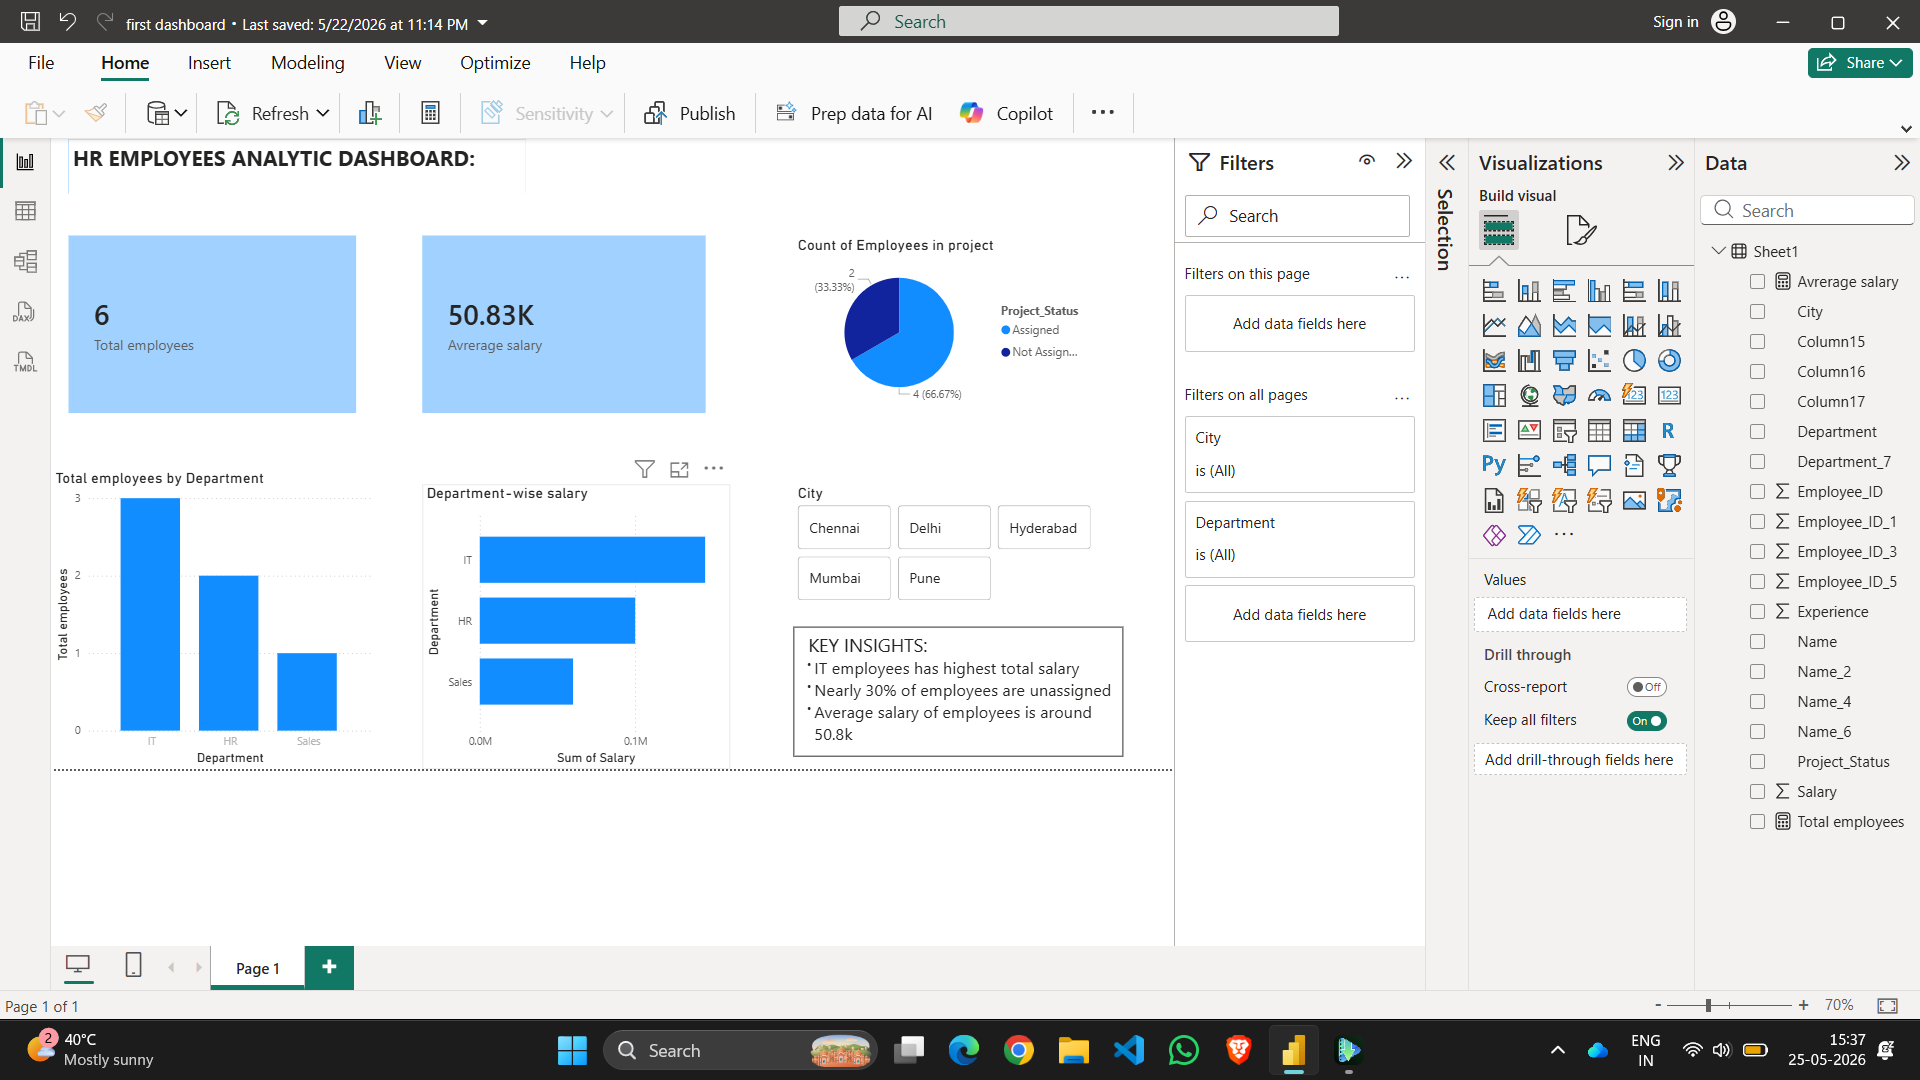

Layout of this report page (visuals, bound fields, positions):
{"tool":"powerbi","page":{"name":"Page 1","canvas":[1280,720],"ordinal":0},"visuals":[{"type":"cardVisual","fields":{"Data":["Sheet1.Total employees"]},"box":[20,111.2,327.8,202.4],"z":0},{"type":"cardVisual","fields":{"Data":["Sheet1.Avrerage salary"]},"box":[423.3,111.2,323.6,202.4],"z":1000},{"type":"columnChart","fields":{"Category":["Sheet1.Department"],"Y":["Sheet1.Total employees"]},"box":[0,377.7,370.6,342.1],"z":2000},{"type":"barChart","title":"Department-wise salary","fields":{"Category":["Sheet1.Department"],"Y":["Sum(Sheet1.Salary)"]},"box":[423.3,394.8,350.6,325],"z":3000},{"type":"pieChart","title":"Count of Employees in project","fields":{"Category":["Sheet1.Project_Status"],"Y":["CountNonNull(Sheet1.Employee_ID)"]},"box":[846.7,111.2,346.4,202.4],"z":4000},{"type":"textbox","box":[846.7,557.3,376.3,148.2],"z":6000},{"type":"shape","box":[20.6,1.4,521.4,61.7],"z":6001},{"type":"textbox","box":[20.6,1.4,521.4,63.1],"z":6002},{"type":"advancedSlicerVisual","fields":{"Values":["Sheet1.City"]},"box":[846.7,394.8,346.4,138.3],"z":6003}]}

Visuals, with their boxes on the page's 1280x720 design canvas (x1, y1, x2, y2). These are canvas units, not pixel positions in the 1920x1080 screenshot, which may show the page scaled, cropped or inside an application window:
cardVisual - Sheet1.Total employees: detection(20, 111, 348, 314)
cardVisual - Sheet1.Avrerage salary: detection(423, 111, 747, 314)
columnChart - Sheet1.Department x Sheet1.Total employees: detection(0, 378, 371, 720)
"Department-wise salary" barChart: detection(423, 395, 774, 720)
"Count of Employees in project" pieChart: detection(847, 111, 1193, 314)
textbox: detection(847, 557, 1223, 706)
shape: detection(21, 1, 542, 63)
textbox: detection(21, 1, 542, 64)
advancedSlicerVisual - Sheet1.City: detection(847, 395, 1193, 533)
